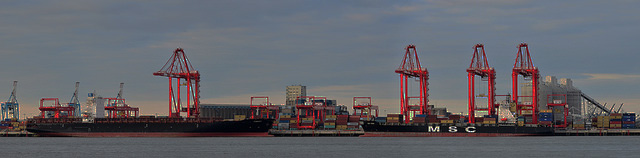container_ship: (23, 91, 272, 137), (357, 102, 558, 134)
